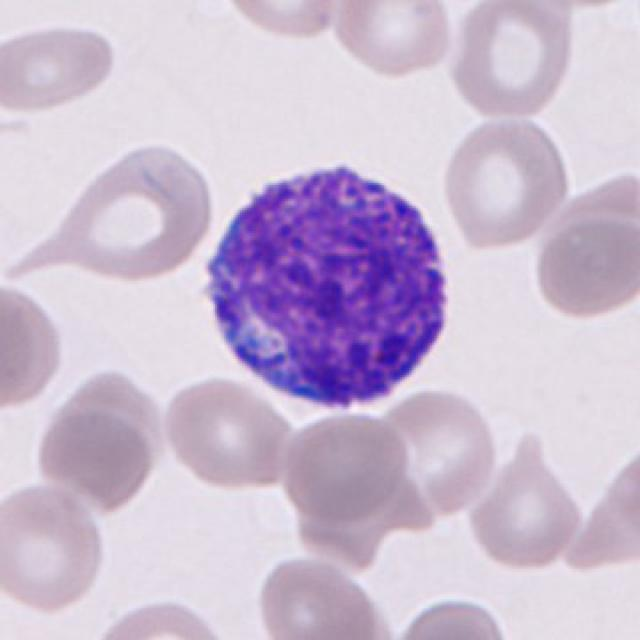Lymphocyte: (192, 146, 462, 427)
RBC: (0, 409, 183, 640), (52, 139, 219, 286), (436, 110, 576, 254), (464, 423, 585, 576), (441, 0, 578, 121), (160, 374, 299, 493), (278, 407, 413, 525), (379, 386, 498, 517), (0, 482, 108, 617), (34, 407, 156, 514), (251, 551, 393, 640), (528, 212, 640, 324), (0, 18, 119, 116), (327, 0, 455, 80), (0, 274, 68, 416), (89, 594, 235, 640), (393, 594, 517, 640), (215, 0, 340, 43), (601, 436, 640, 567), (503, 0, 640, 18)
